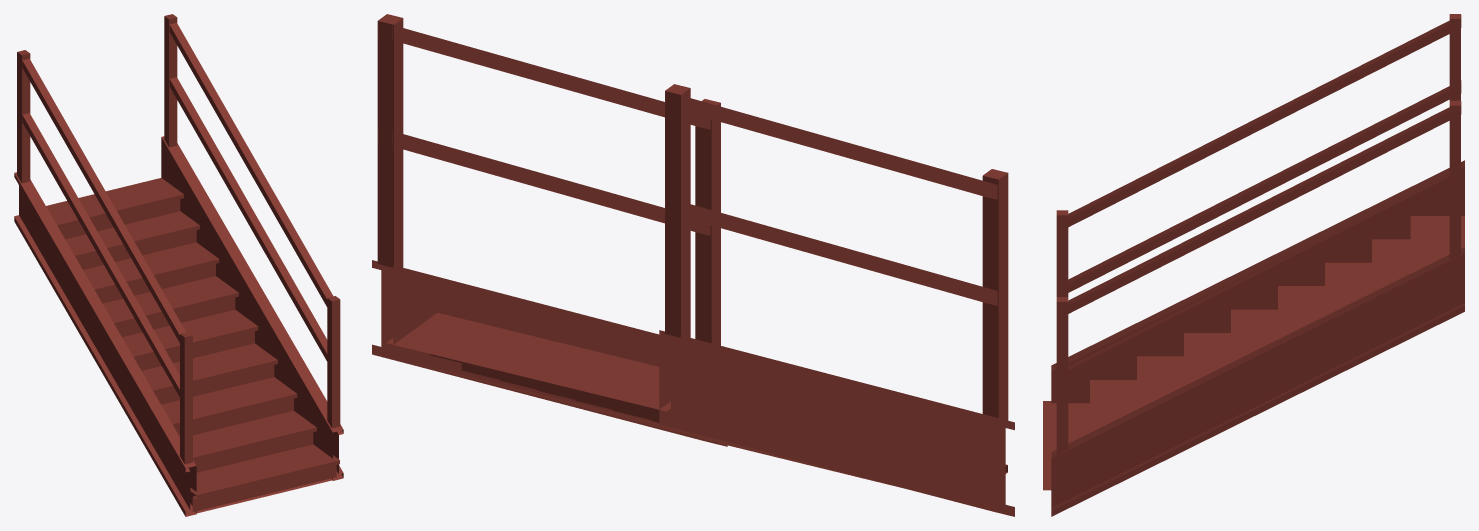
The model's file is Walkway New 7.fbx.
The picture shows the model from 3 angles, left to right: view 1: azimuth 30°, elevation 25°; view 2: azimuth 150°, elevation 25°; view 3: azimuth 270°, elevation 25°; orthographic projection. The views are drawn at different scales.
Parts seen in each view (by area): view 1: polySurface290; view 2: polySurface290; view 3: polySurface290.
Boxes of the visible parts, x1,y1,x2,y2 form: polySurface290: (14, 14, 343, 516); polySurface290: (372, 14, 1014, 516); polySurface290: (1043, 14, 1464, 516).
Bounding box in the file's own units: 129 × 265 × 247.
